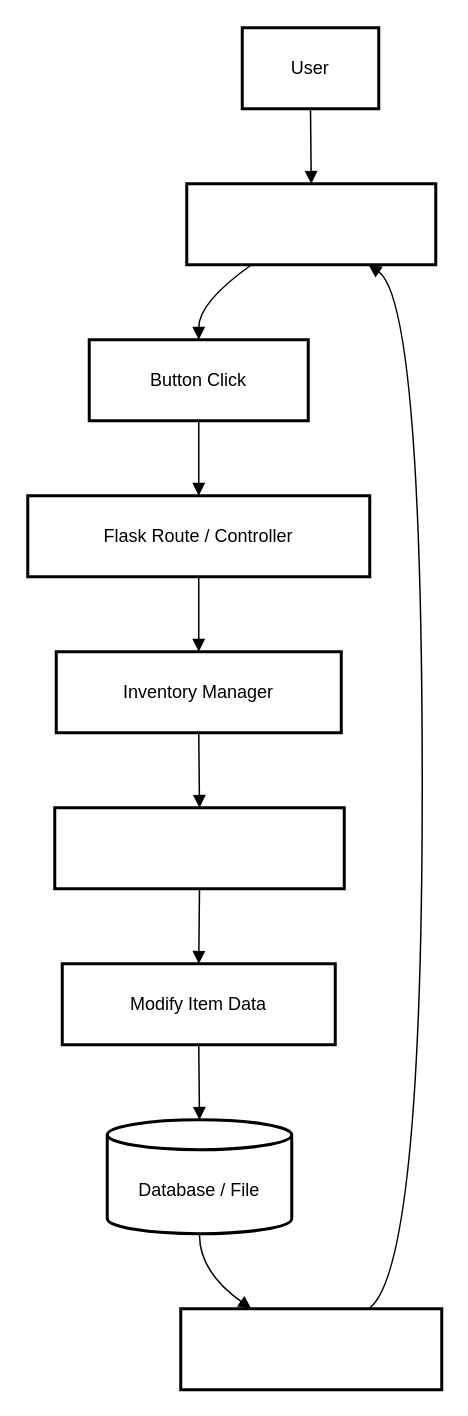
Image size: 468x1416. Some labels were removed from this diagram. The box of each missing label's shape, as (x1, y1, x2, y2) in pixels:
Create / Find Item: (52, 806, 345, 890)
GUI / Frontend: (184, 182, 436, 266)
Return Response: (178, 1306, 442, 1390)
